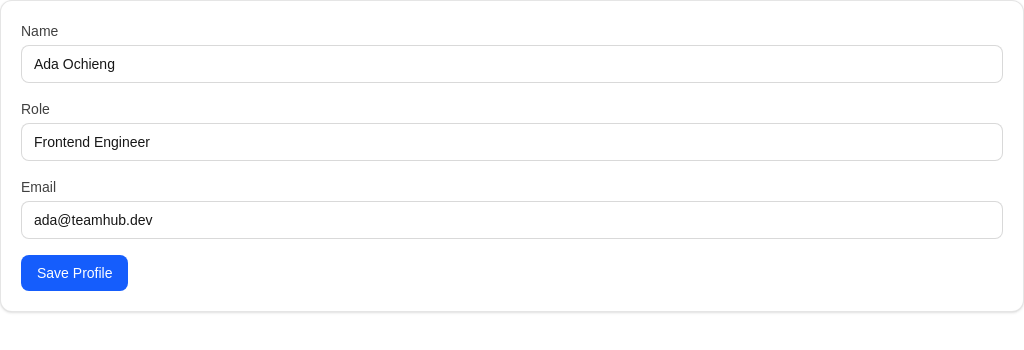
Test case: EditProfileForm › shows error for bad email
Replace the text in the field labelled "Email" with "bad-email": (512, 220) x1=21 y1=201 x2=1003 y2=239
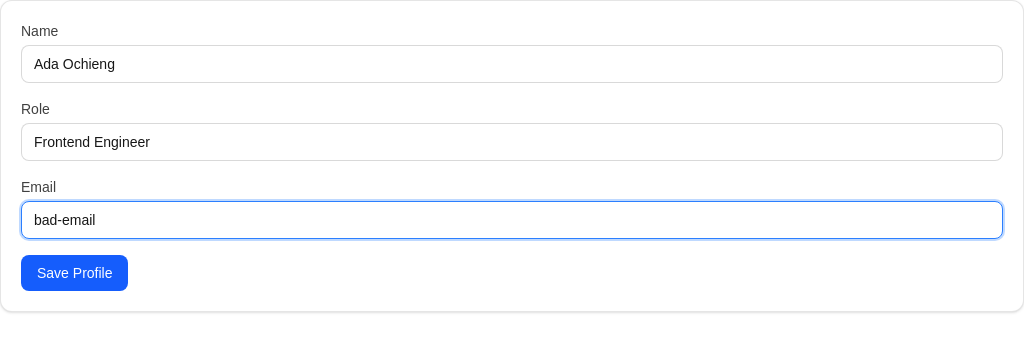
Click the button "Save Profile": (75, 273) x1=21 y1=255 x2=128 y2=291
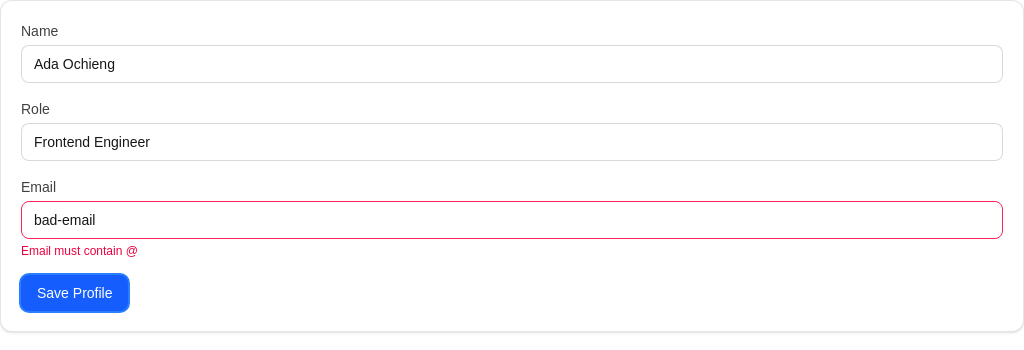
Expected: the text "Email must contain @" is shown, x1=21 y1=244 x2=138 y2=258
